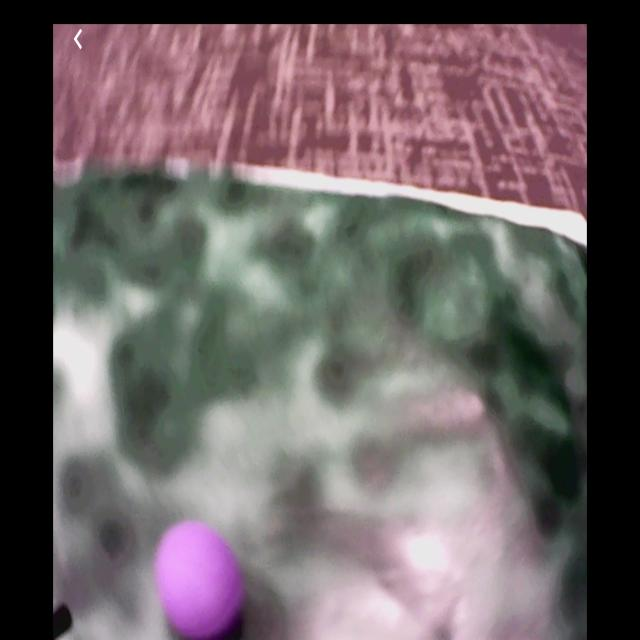ball: (160, 522, 242, 639)
